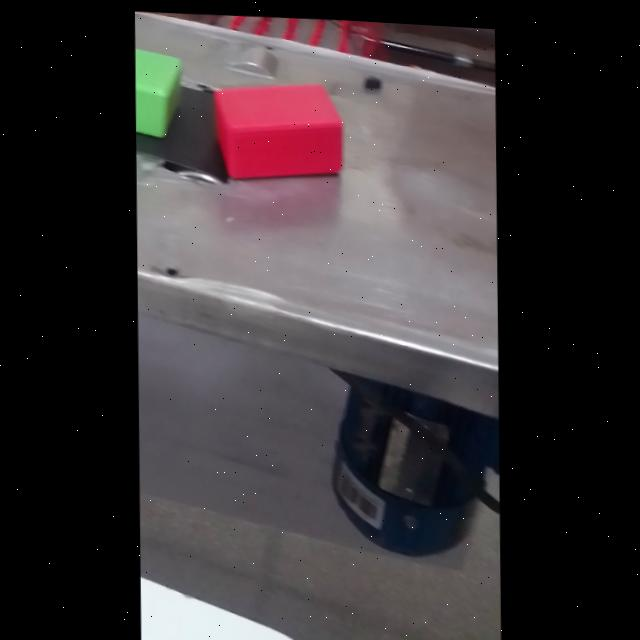greenBox: (134, 25, 193, 149)
redBox: (203, 67, 366, 197)
